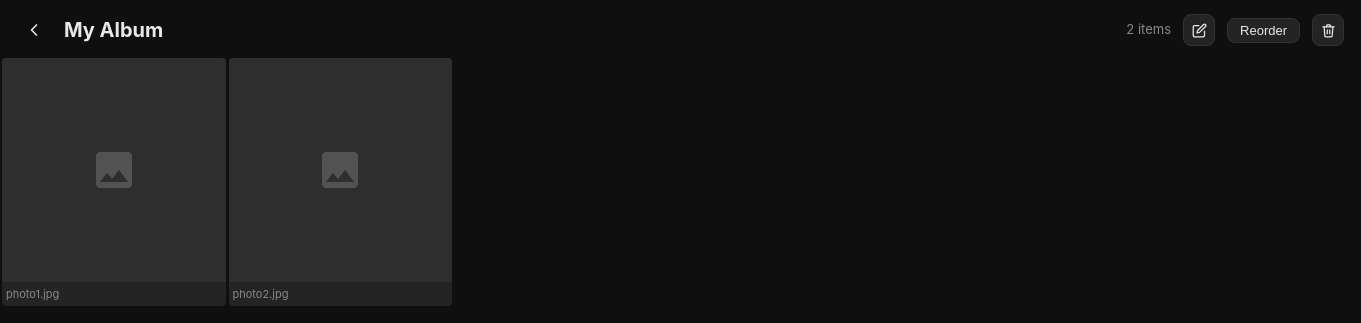
Test: Collection detail — rename UI › after renaming, the title updates to the new name
The width and height of the screenshot is (1361, 323).
Step 1. Click the button named "Rename collection" → (1199, 30), box top-left (1183, 14), bottom-right (1215, 46)
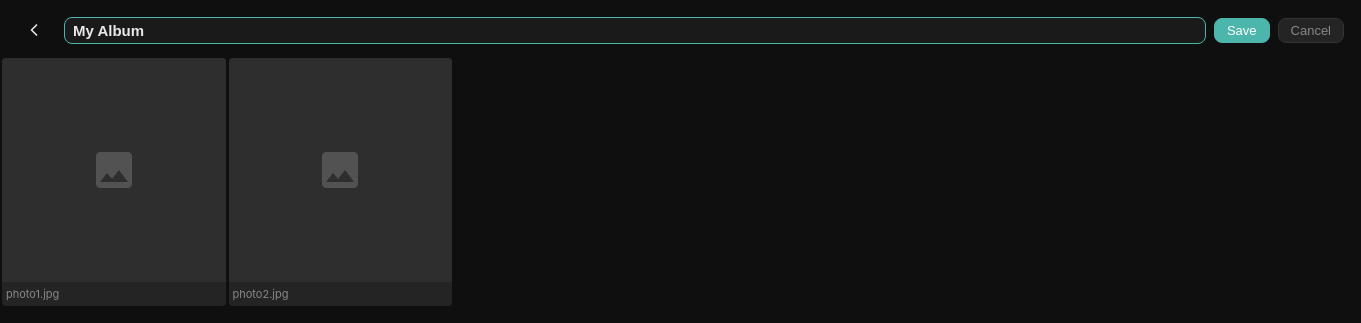
Step 2. Replace the text in the field named "Collection name" with "Summer 2024" → (635, 30), box top-left (64, 16), bottom-right (1206, 44)
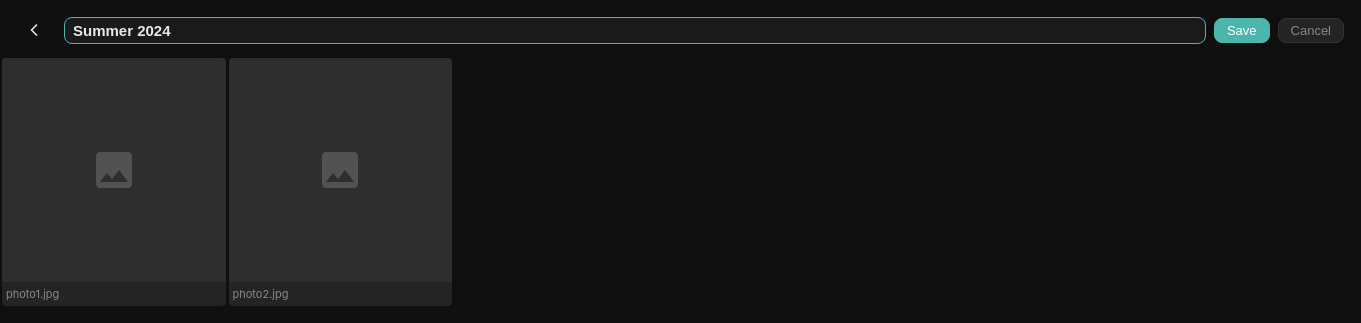
Step 3. Click the button "Save" → (1242, 30), box top-left (1214, 18), bottom-right (1270, 42)
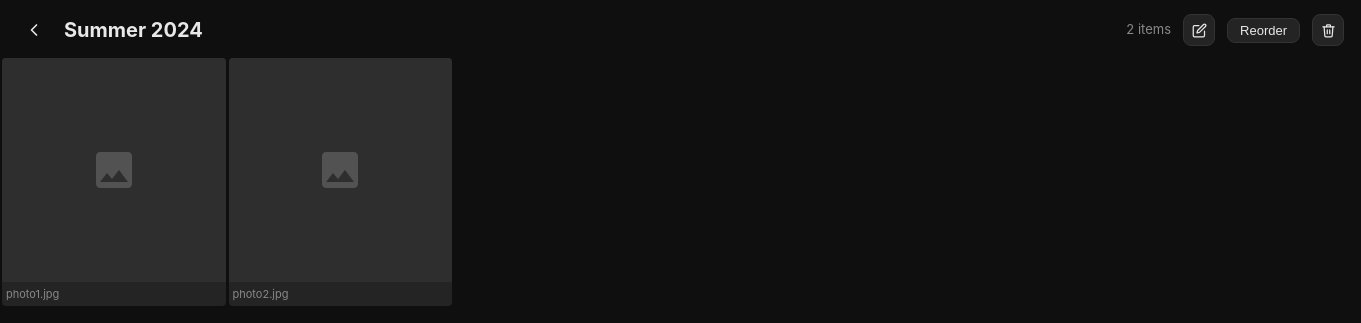
Now the heading "Summer 2024" is shown, box top-left (64, 18), bottom-right (203, 42)
